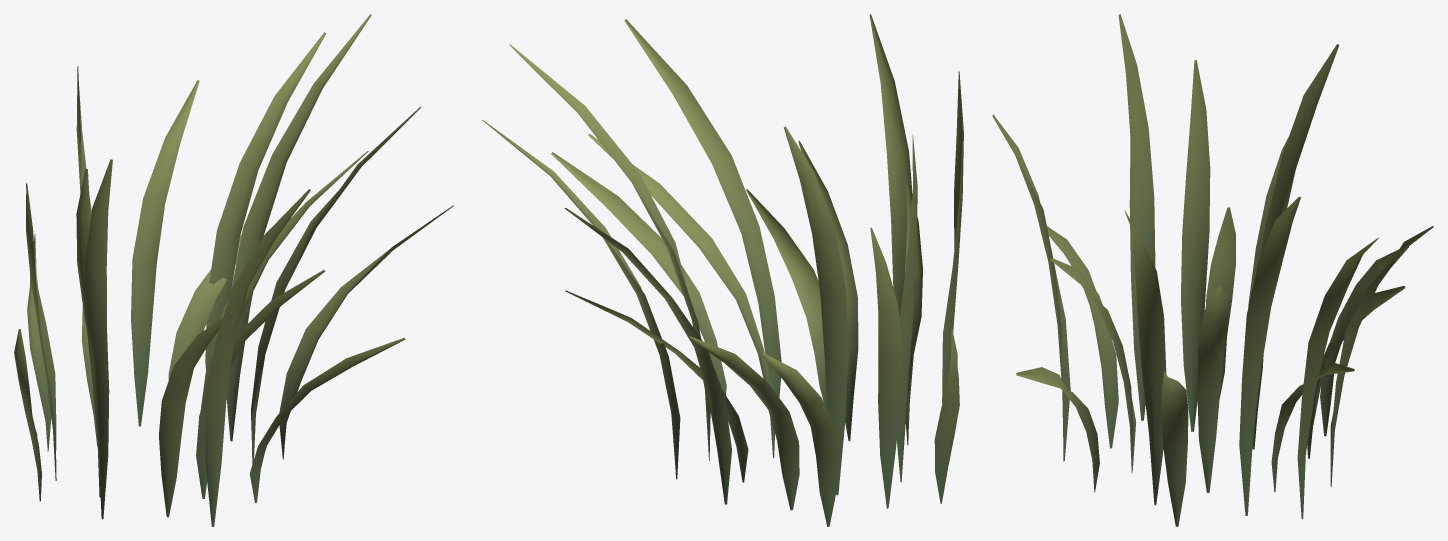
File: grass-meadow.glb
The picture shows the model from 3 angles, left to right: view 1: azimuth 30°, elevation 25°; view 2: azimuth 150°, elevation 25°; view 3: azimuth 270°, elevation 25°; orthographic projection. The views are drawn at different scales.
Parts seen in each view (by area): view 1: grass-meadow; view 2: grass-meadow; view 3: grass-meadow.
Boxes of the visible parts, x1,y1,x2,y2 form: grass-meadow: (14,14,453,526); grass-meadow: (482,14,963,526); grass-meadow: (992,14,1433,526).
Size of the model in its own units: 1.53 by 1.33 by 1.29.
